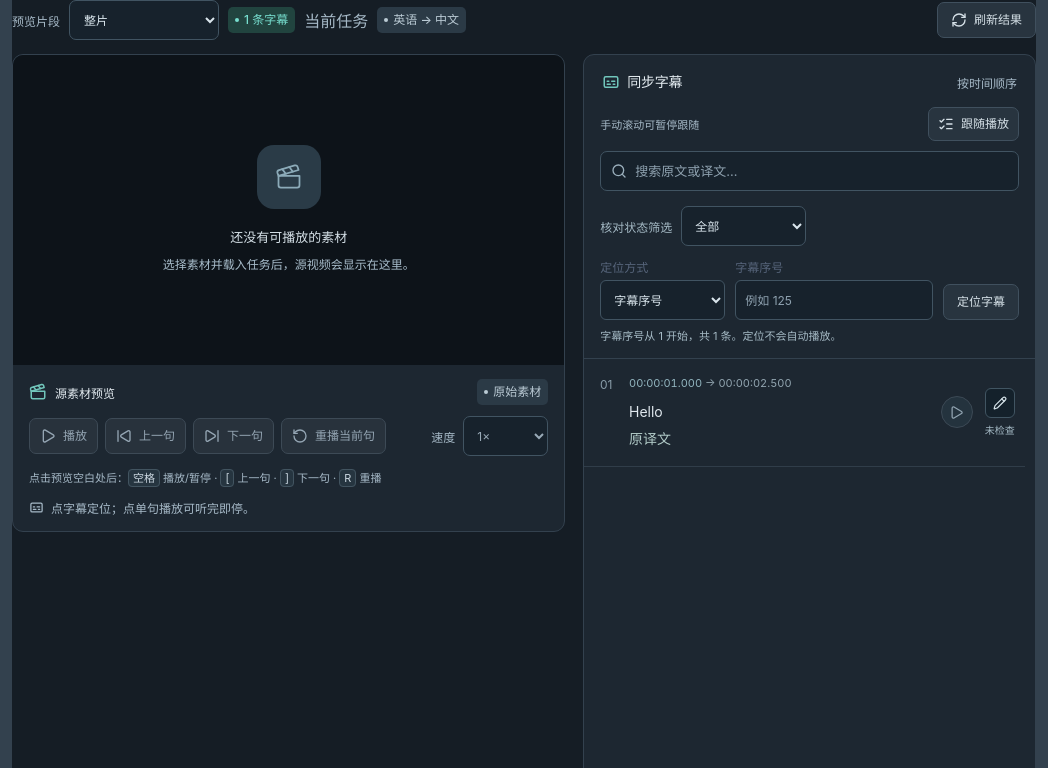
Test case: persisted review drafts in the preview › restores the selected segment's draft and isolates another project's matching cue ID
Check: the button named "编辑第 1 句" is shown, box [985,388,1015,418]
Check: the field labelled "译文（中文）" is not shown
Select "样片" in the dropdown labelled "预览片段" at (144, 20), box [69,0,219,40]
(page scrolled)
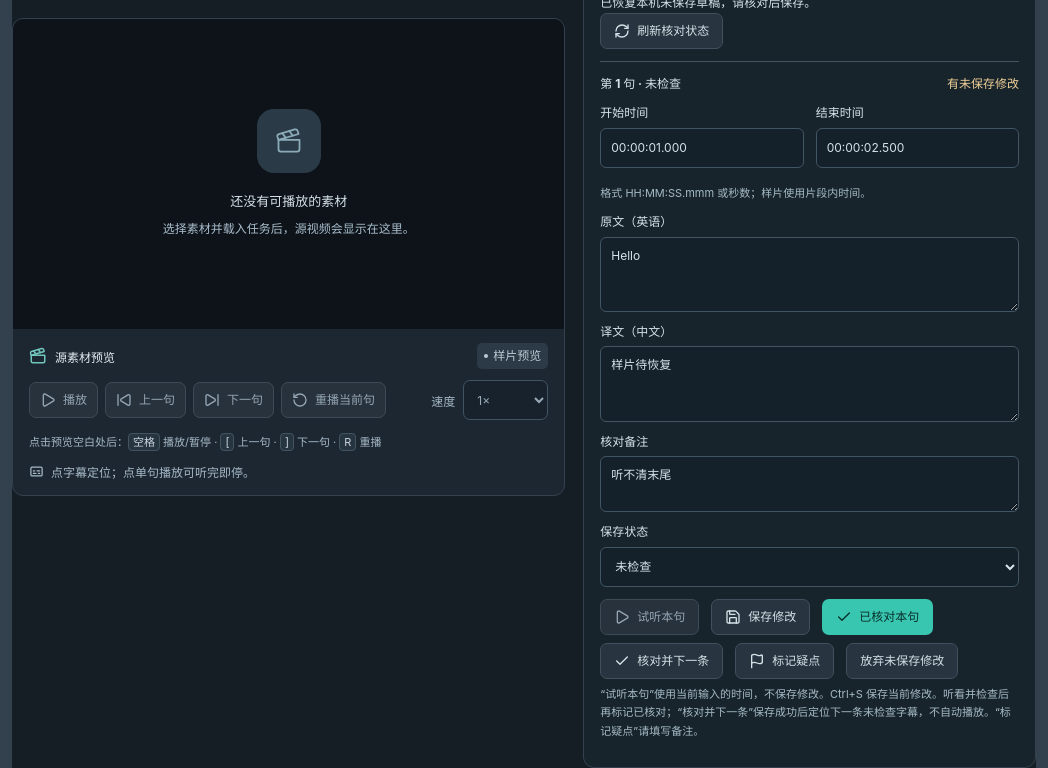
Check: the text box labelled "译文（中文）" holds "样片待恢复", box [600,346,1019,422]
